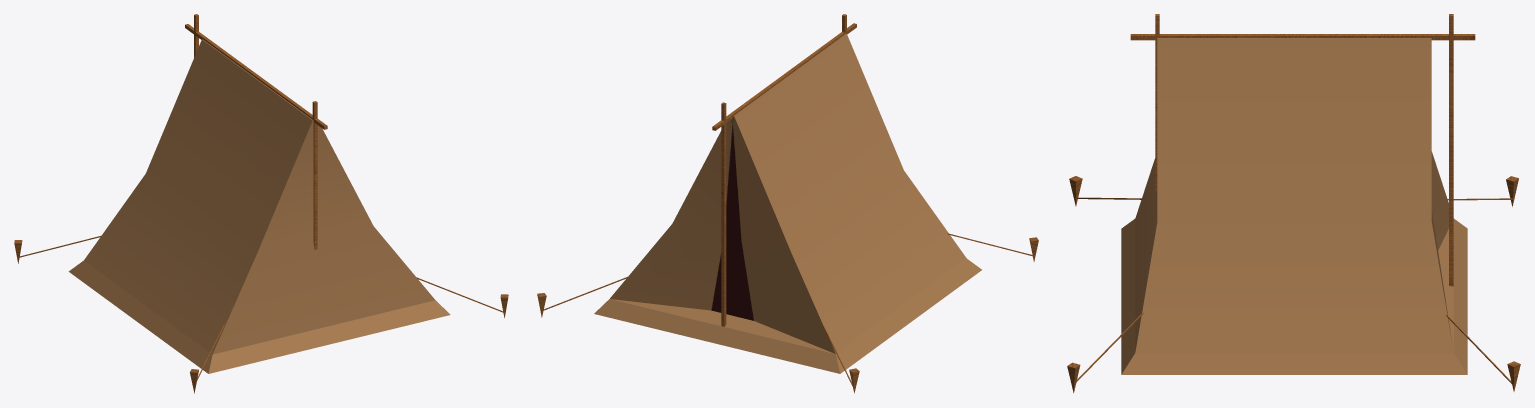
The model's file is CampTent.fbx.
3 renders of one model, left to right at view 1: azimuth 30°, elevation 25°; view 2: azimuth 150°, elevation 25°; view 3: azimuth 270°, elevation 25°, orthographic. The views are drawn at different scales.
Parts seen in each view (by area): view 1: CampTent; view 2: CampTent; view 3: CampTent.
Part boxes in pixels (x1,y1,x2,y2): CampTent: [14, 14, 508, 393]; CampTent: [537, 14, 1038, 393]; CampTent: [1067, 14, 1520, 393].
Bounding box in the file's own units: 1.66 × 1.15 × 1.65.
